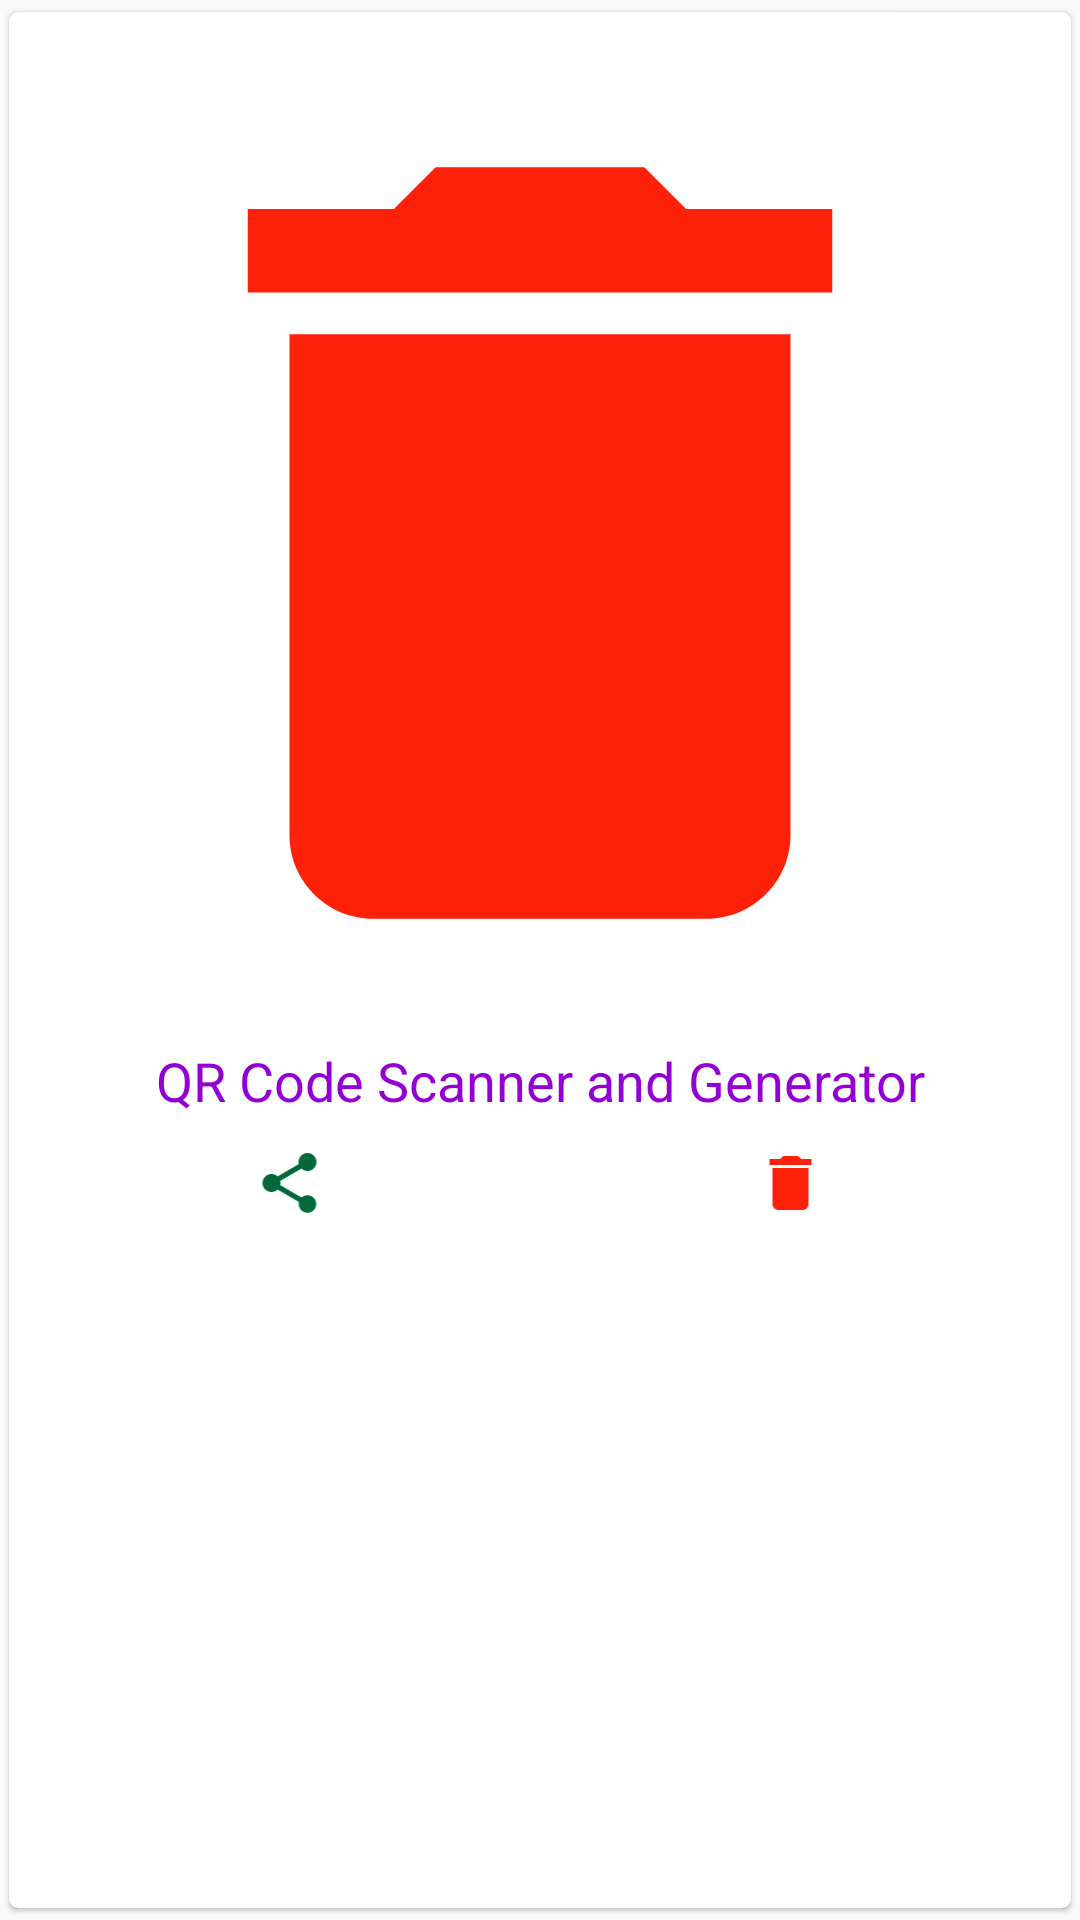

Where icons sit on this 1080px×1920px app screen, as (x1, y1, x2, y2):
share: (262, 1153, 317, 1213)
